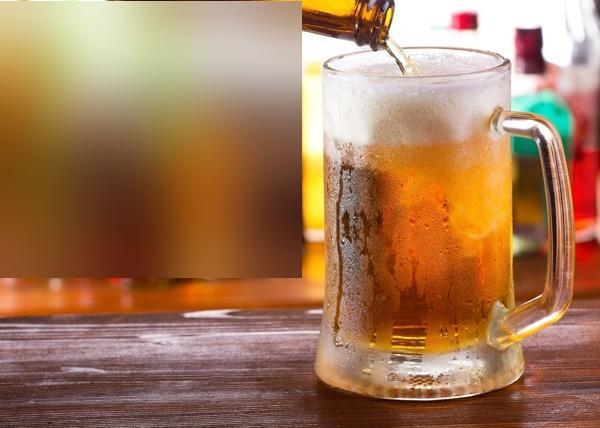glass-mug: (314, 43, 580, 404)
